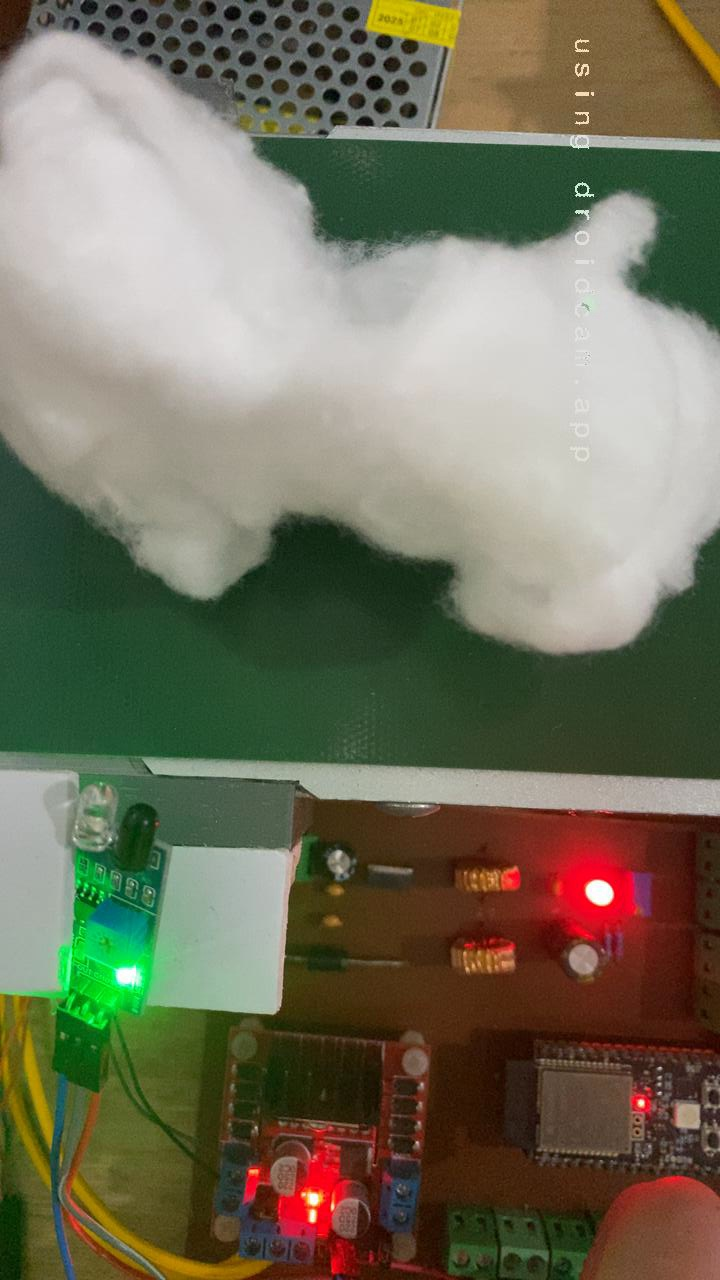cotton: (0, 144, 720, 665)
